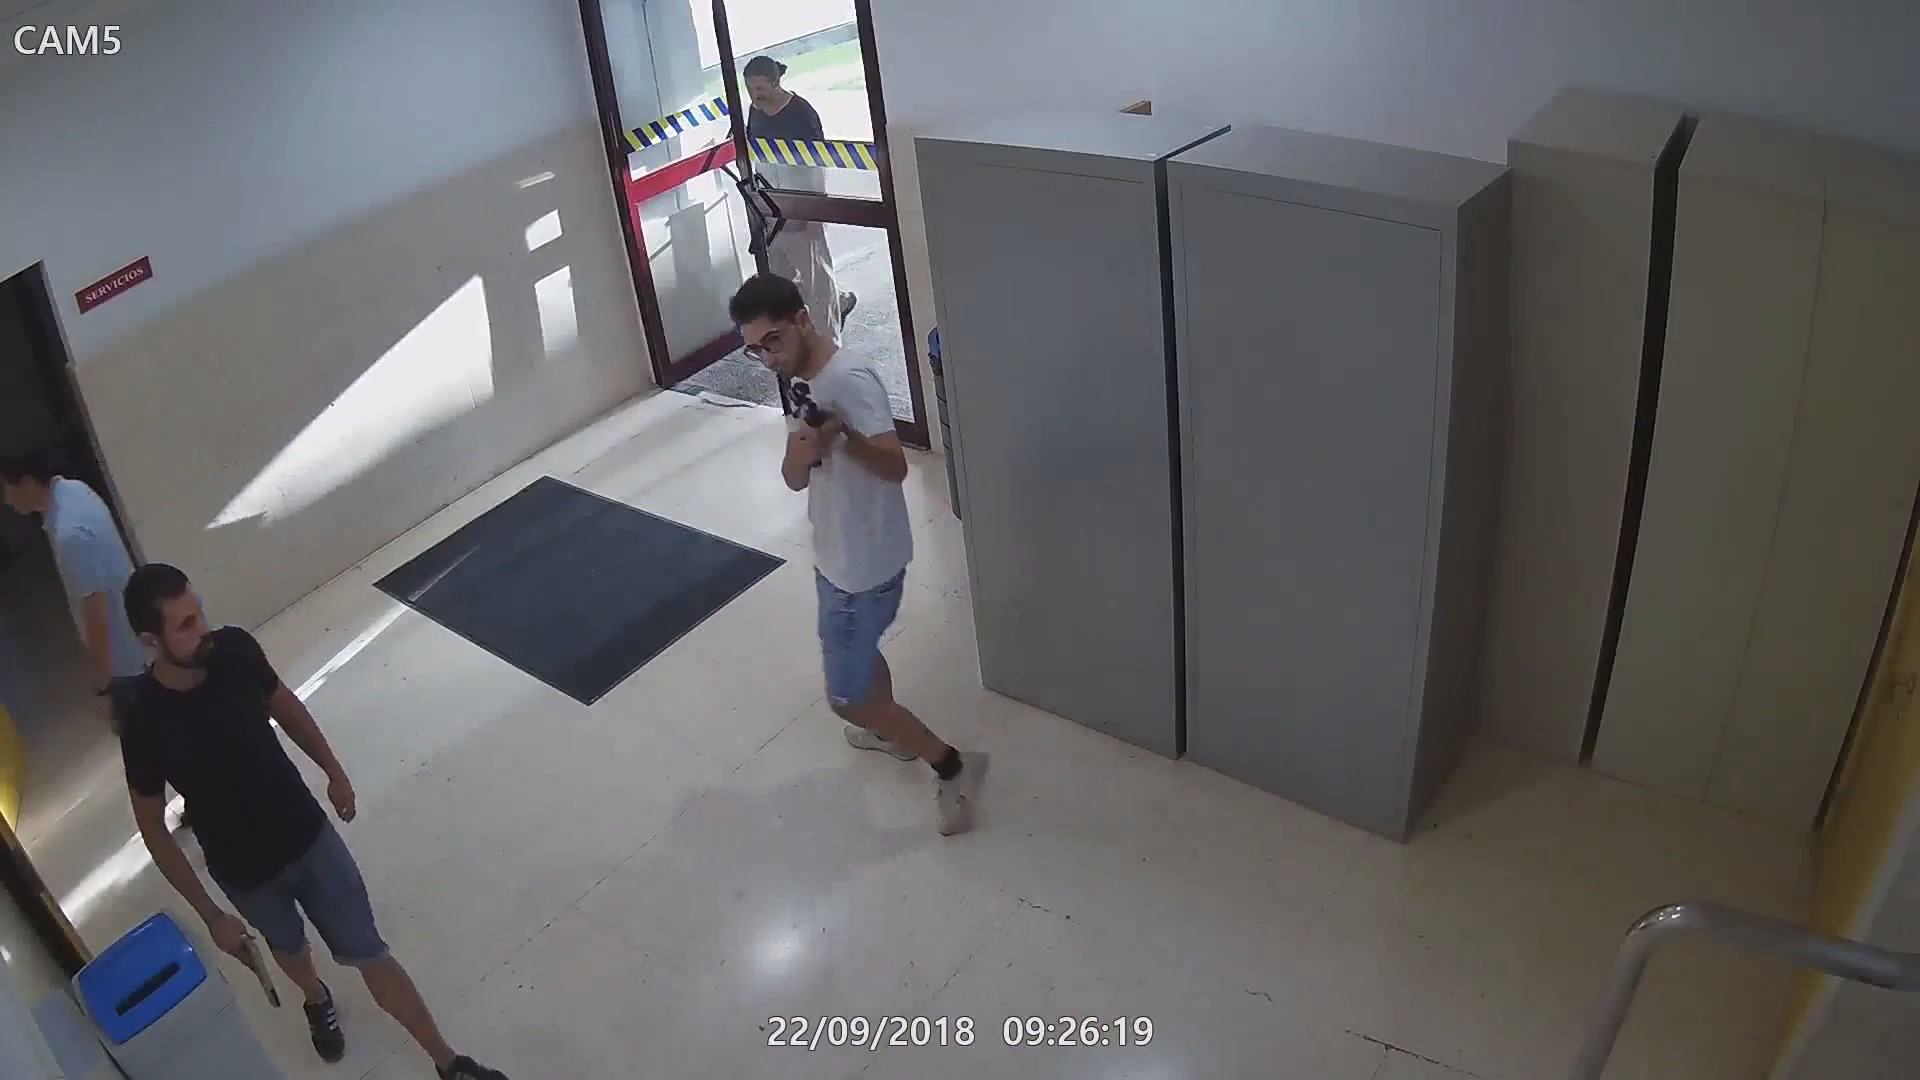Handgun: (227, 920, 289, 1017)
Short_rifle: (773, 372, 829, 479)
